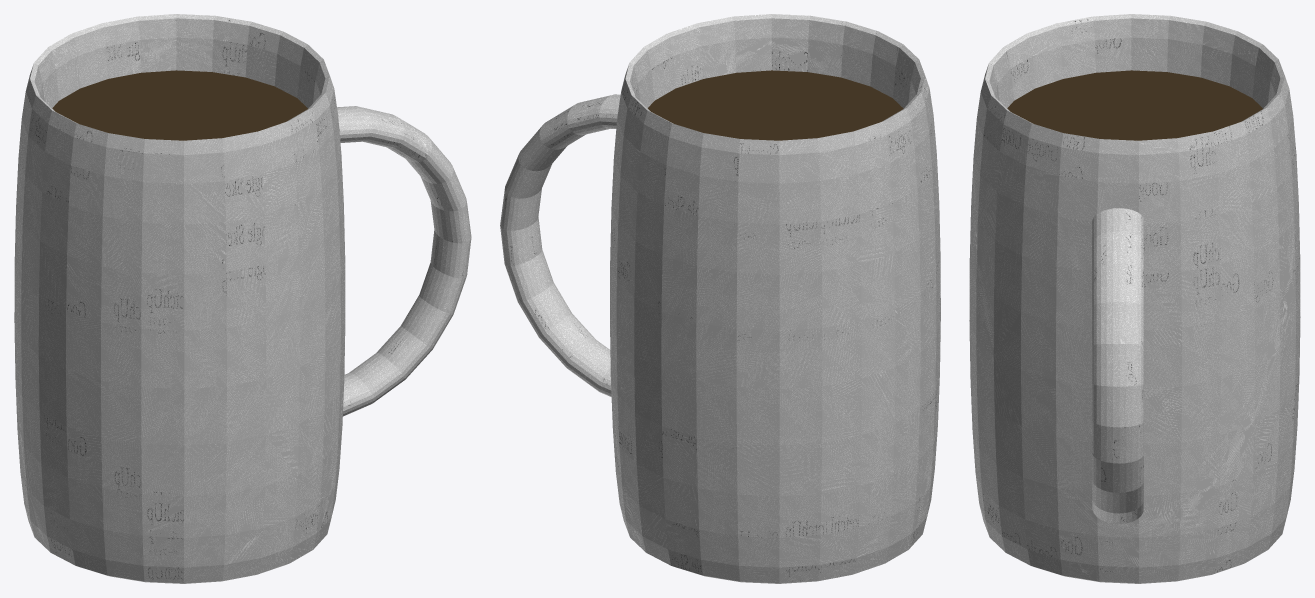
3 renders of one model, left to right at view 1: azimuth 30°, elevation 25°; view 2: azimuth 150°, elevation 25°; view 3: azimuth 270°, elevation 25°, orthographic.
Visible parts, largest first — view 1: mesh1_mesh1-geometry, mesh2_mesh2-geometry; view 2: mesh1_mesh1-geometry, mesh2_mesh2-geometry; view 3: mesh1_mesh1-geometry, mesh2_mesh2-geometry.
Boxes of the visible parts, x1,y1,x2,y2 form: mesh1_mesh1-geometry: [14, 14, 345, 583]; mesh2_mesh2-geometry: [337, 106, 471, 416]; mesh1_mesh1-geometry: [610, 14, 940, 583]; mesh2_mesh2-geometry: [500, 94, 620, 396]; mesh1_mesh1-geometry: [969, 14, 1300, 583]; mesh2_mesh2-geometry: [1092, 208, 1143, 523].
Bounding box in the file's own units: 0.6354 × 0.64 × 0.432.
